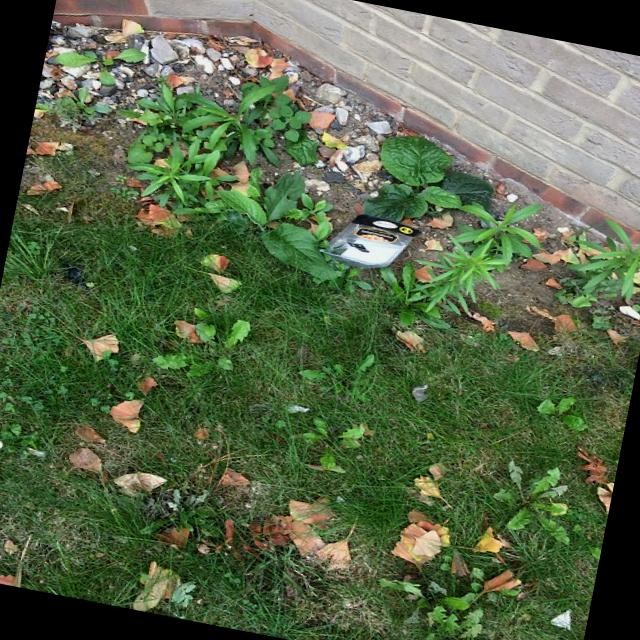Trash: (327, 186, 442, 289)
